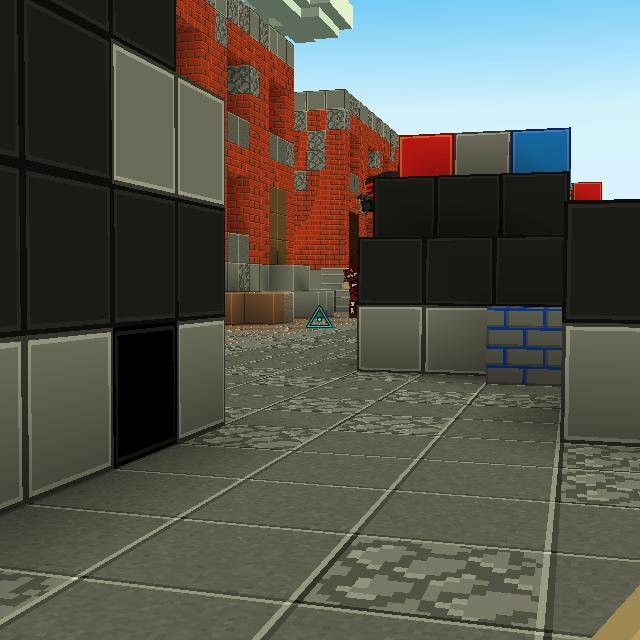enemy: (358, 170, 399, 213), (342, 264, 359, 319)
